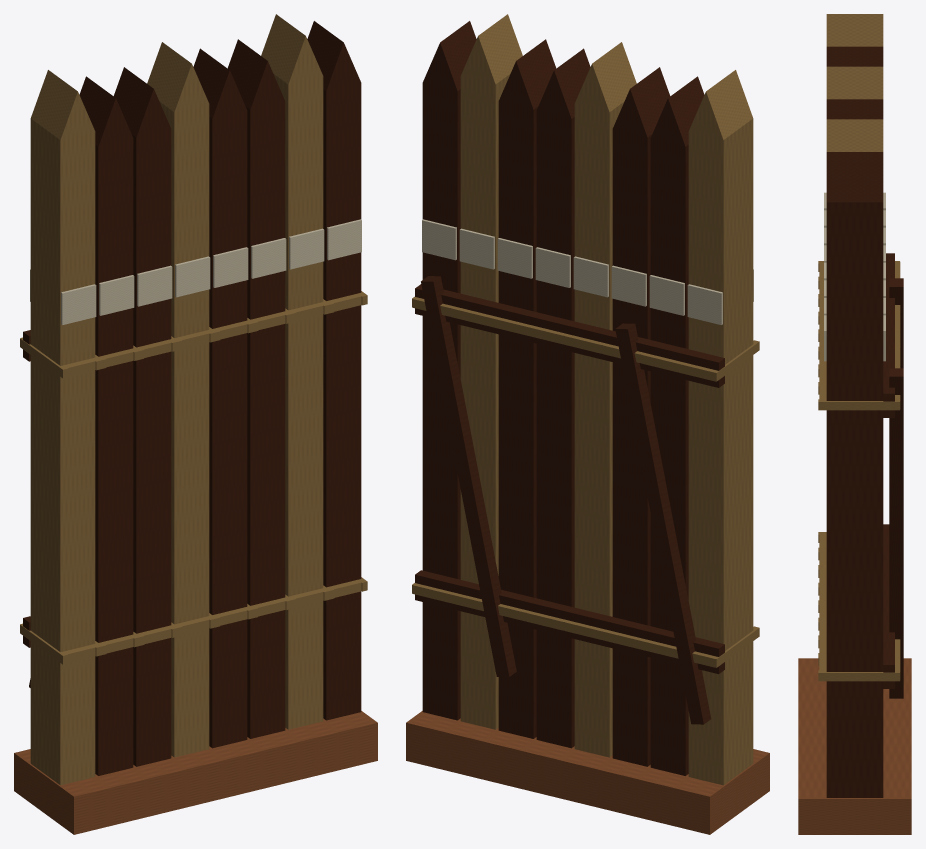
The model's file is Berber_Palisade_Age2_gapfill_2m.fbx.
The picture shows the model from 3 angles, left to right: view 1: azimuth 30°, elevation 25°; view 2: azimuth 150°, elevation 25°; view 3: azimuth 270°, elevation 25°; orthographic projection. The views are drawn at different scales.
Parts seen in each view (by area): view 1: palm_split_post.025, palm_split_post.024, palm_split_post.027, palm_split_post.030, palm_split_post.026, palm_split_post.031, palm_split_post.028, earth_seat.004, neutral_owner_band.004, front_lashing.004, lashing_side.004; view 2: palm_split_post.025, palm_split_post.024, palm_split_post.027, palm_split_post.028, palm_split_post.026, palm_split_post.030, palm_split_post.031, earth_seat.004, back_diagonal_brace.004, continuous_rear_tie.004, neutral_owner_band.004, back_lashing.004 (+1 smaller); view 3: palm_split_post.031, earth_seat.004, back_diagonal_brace.004, continuous_rear_tie.004, lashing_side.004, palm_split_post.027, palm_split_post.024, palm_split_post.030, front_lashing.004, palm_split_post.025, palm_split_post.028, neutral_owner_band.004 (+1 smaller).
Boxes of the visible parts, left/top/right/bottom form: palm_split_post.025: left=79, top=39, right=285, bottom=775; palm_split_post.024: left=30, top=70, right=95, bottom=785; palm_split_post.027: left=147, top=42, right=209, bottom=757; palm_split_post.030: left=261, top=14, right=323, bottom=729; palm_split_post.026: left=113, top=67, right=171, bottom=766; palm_split_post.031: left=307, top=21, right=361, bottom=720; palm_split_post.028: left=193, top=48, right=247, bottom=748; earth_seat.004: left=14, top=711, right=377, bottom=834; neutral_owner_band.004: left=30, top=219, right=361, bottom=324; front_lashing.004: left=61, top=292, right=365, bottom=662; lashing_side.004: left=20, top=291, right=367, bottom=664; palm_split_post.025: left=498, top=39, right=704, bottom=775; palm_split_post.024: left=688, top=70, right=753, bottom=785; palm_split_post.027: left=574, top=42, right=636, bottom=757; palm_split_post.028: left=536, top=48, right=590, bottom=748; palm_split_post.026: left=612, top=67, right=670, bottom=766; palm_split_post.030: left=460, top=14, right=522, bottom=729; palm_split_post.031: left=422, top=21, right=476, bottom=720; earth_seat.004: left=406, top=711, right=769, bottom=834; back_diagonal_brace.004: left=421, top=276, right=711, bottom=724; continuous_rear_tie.004: left=415, top=284, right=724, bottom=673; neutral_owner_band.004: left=422, top=219, right=753, bottom=324; back_lashing.004: left=412, top=297, right=717, bottom=667; palm_split_post.031: left=826, top=152, right=883, bottom=797; earth_seat.004: left=798, top=658, right=911, bottom=834; back_diagonal_brace.004: left=889, top=278, right=903, bottom=698; continuous_rear_tie.004: left=883, top=253, right=894, bottom=688; lashing_side.004: left=818, top=261, right=899, bottom=681; palm_split_post.027: left=826, top=66, right=883, bottom=99; palm_split_post.024: left=826, top=14, right=883, bottom=46; palm_split_post.030: left=826, top=119, right=883, bottom=151; front_lashing.004: left=819, top=261, right=826, bottom=670; palm_split_post.025: left=826, top=46, right=883, bottom=119; palm_split_post.028: left=826, top=99, right=883, bottom=116; neutral_owner_band.004: left=824, top=192, right=885, bottom=361.
Bounding box in the file's own units: 201 × 458 × 68.29.
4 materials, 4 textured.
